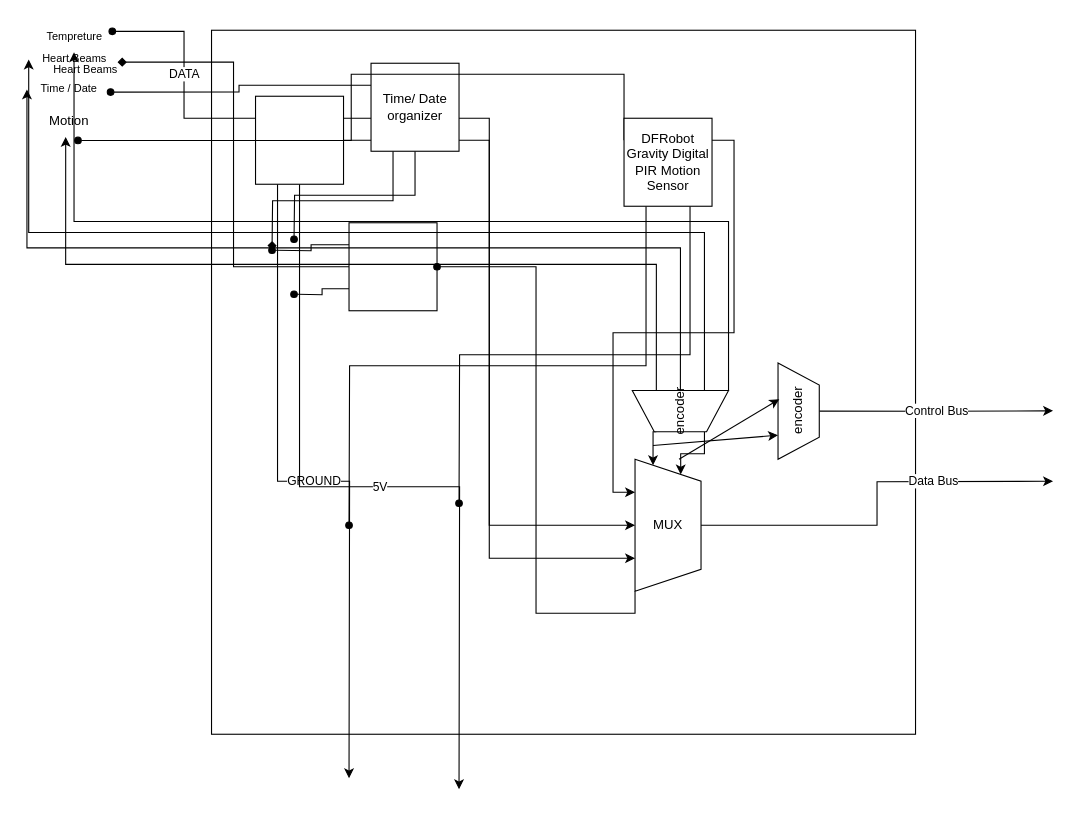
This 1081x817 diagram has some shape labels left out. Each missing label, with the box of its shape:
LM35 Temp sensor: (254, 95, 344, 184)
pulse sensor ISN-11574: (348, 222, 437, 311)
